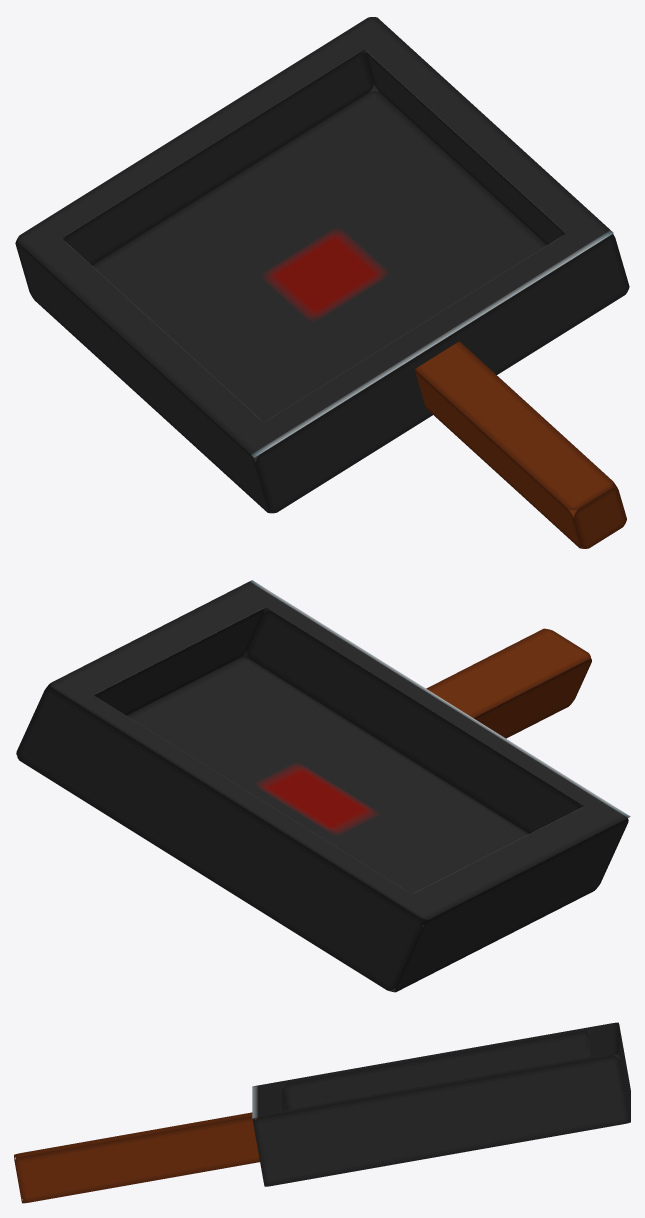
File: pan.fbx
3 renders of one model, top to bottom at view 1: azimuth 30°, elevation 25°; view 2: azimuth 150°, elevation 25°; view 3: azimuth 270°, elevation 25°, orthographic. The views are drawn at different scales.
Parts seen in each view (by area): view 1: iron, handel; view 2: iron, handel; view 3: iron, handel.
Boxes of the visible parts, box(x1,y1,x2,y2) form: iron: box(15, 17, 629, 513); handel: box(414, 341, 626, 548); iron: box(16, 580, 630, 992); handel: box(426, 628, 591, 738); iron: box(252, 1022, 630, 1186); handel: box(14, 1112, 259, 1203).
Bounding box in the file's own units: 106 × 67.87 × 166.
Materials: 1 (1 with a texture image).
